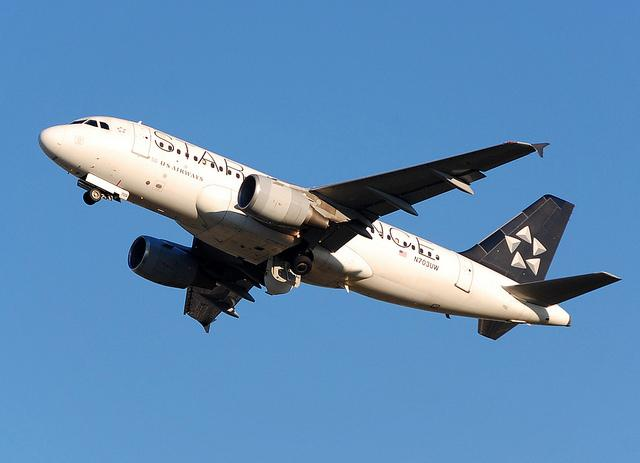airplane: (35, 112, 623, 342)
